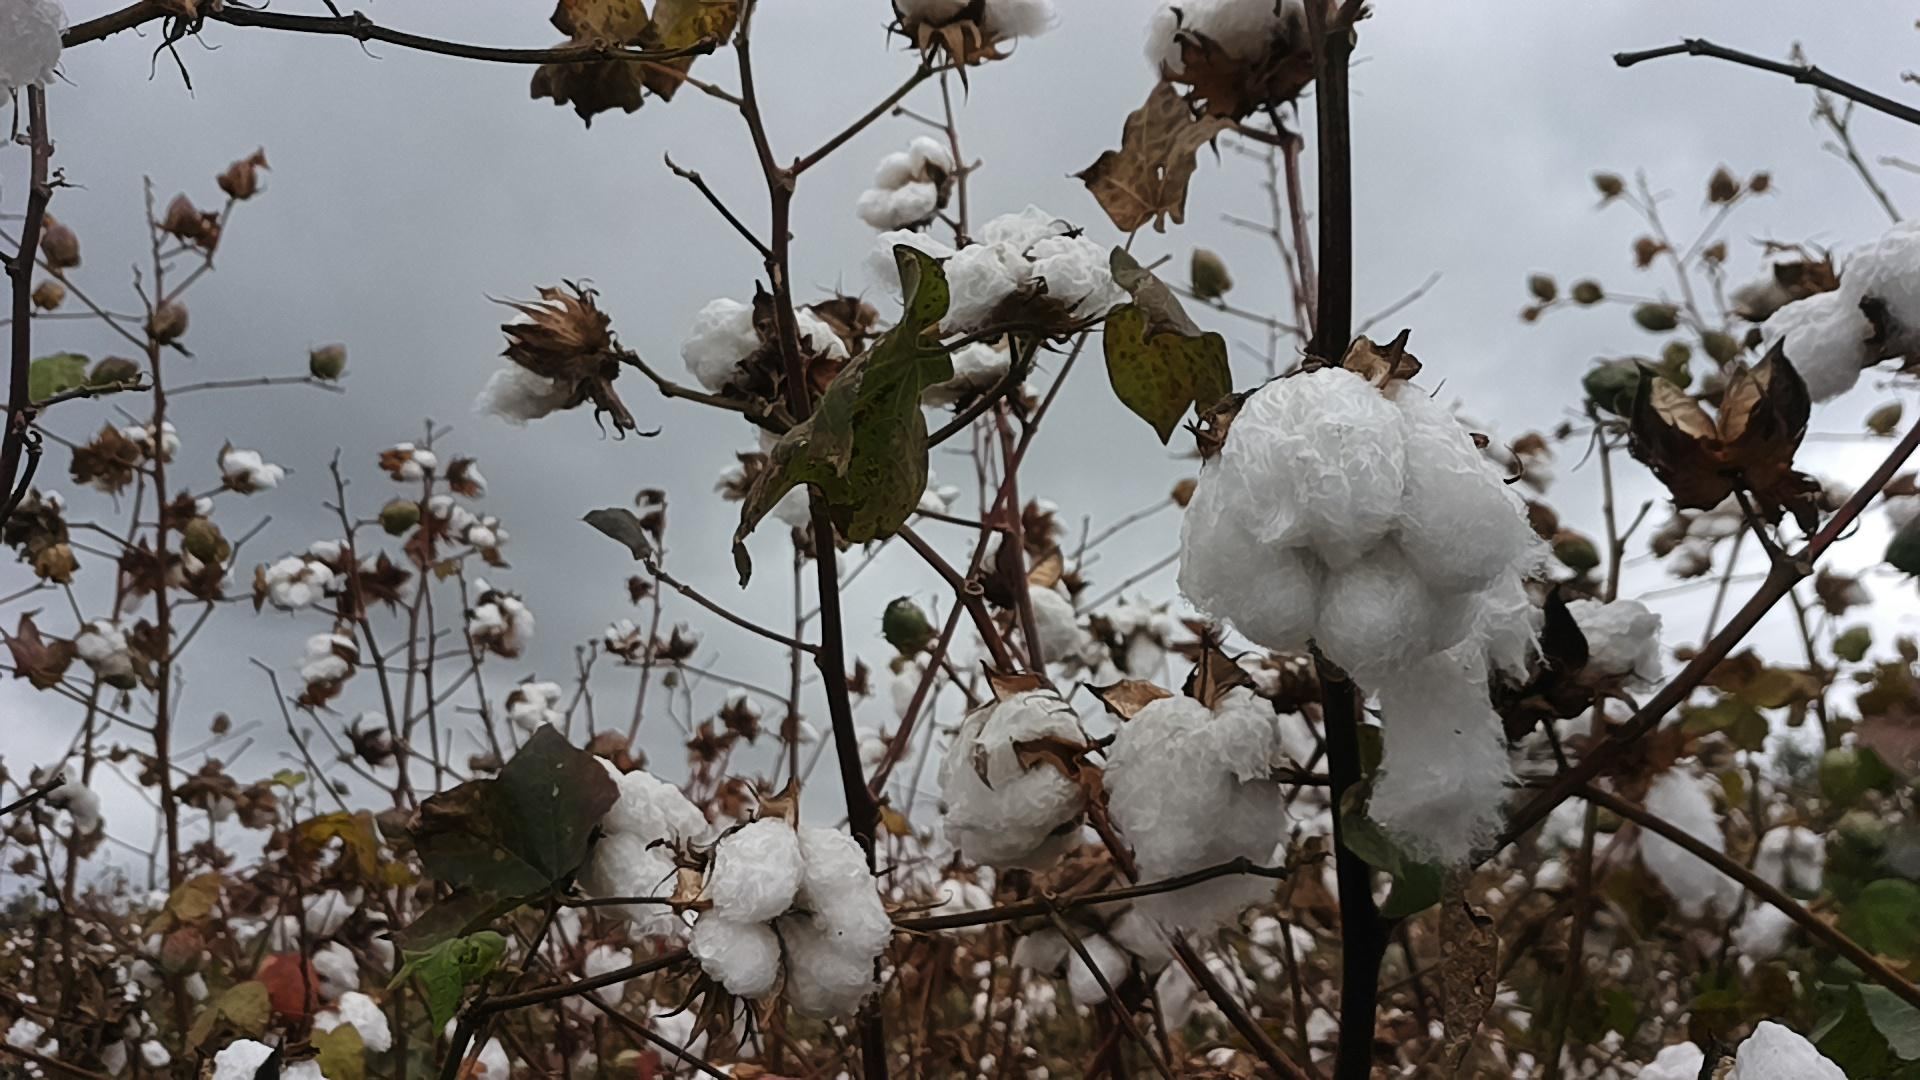cotton_ready: (1178, 376, 1551, 676), (1108, 683, 1283, 940), (692, 819, 890, 1018), (1361, 644, 1523, 870), (1758, 227, 1920, 409), (928, 195, 1138, 335), (934, 680, 1087, 865), (576, 754, 708, 934), (678, 299, 862, 405), (1150, 0, 1345, 86), (476, 295, 600, 426), (856, 136, 953, 233), (1718, 1015, 1850, 1080), (894, 0, 1063, 50), (0, 0, 69, 117)
